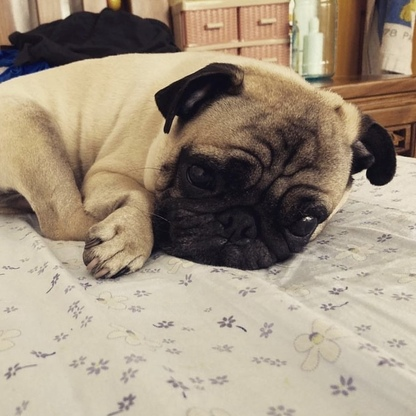Pug: (1, 45, 400, 285)
